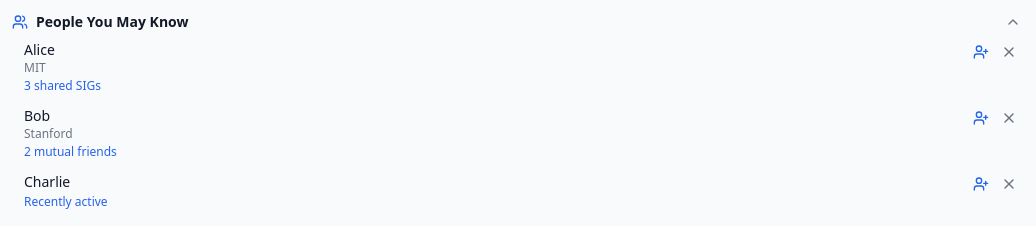
FriendRecommendations › can collapse and expand the widget
Click the button "People You May Know" at [112, 22], box [12,12,1021,32]
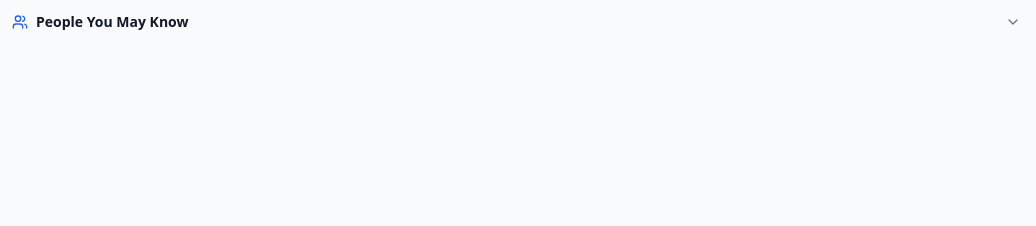
Check: no list items with test id "recommendation-item" are shown
